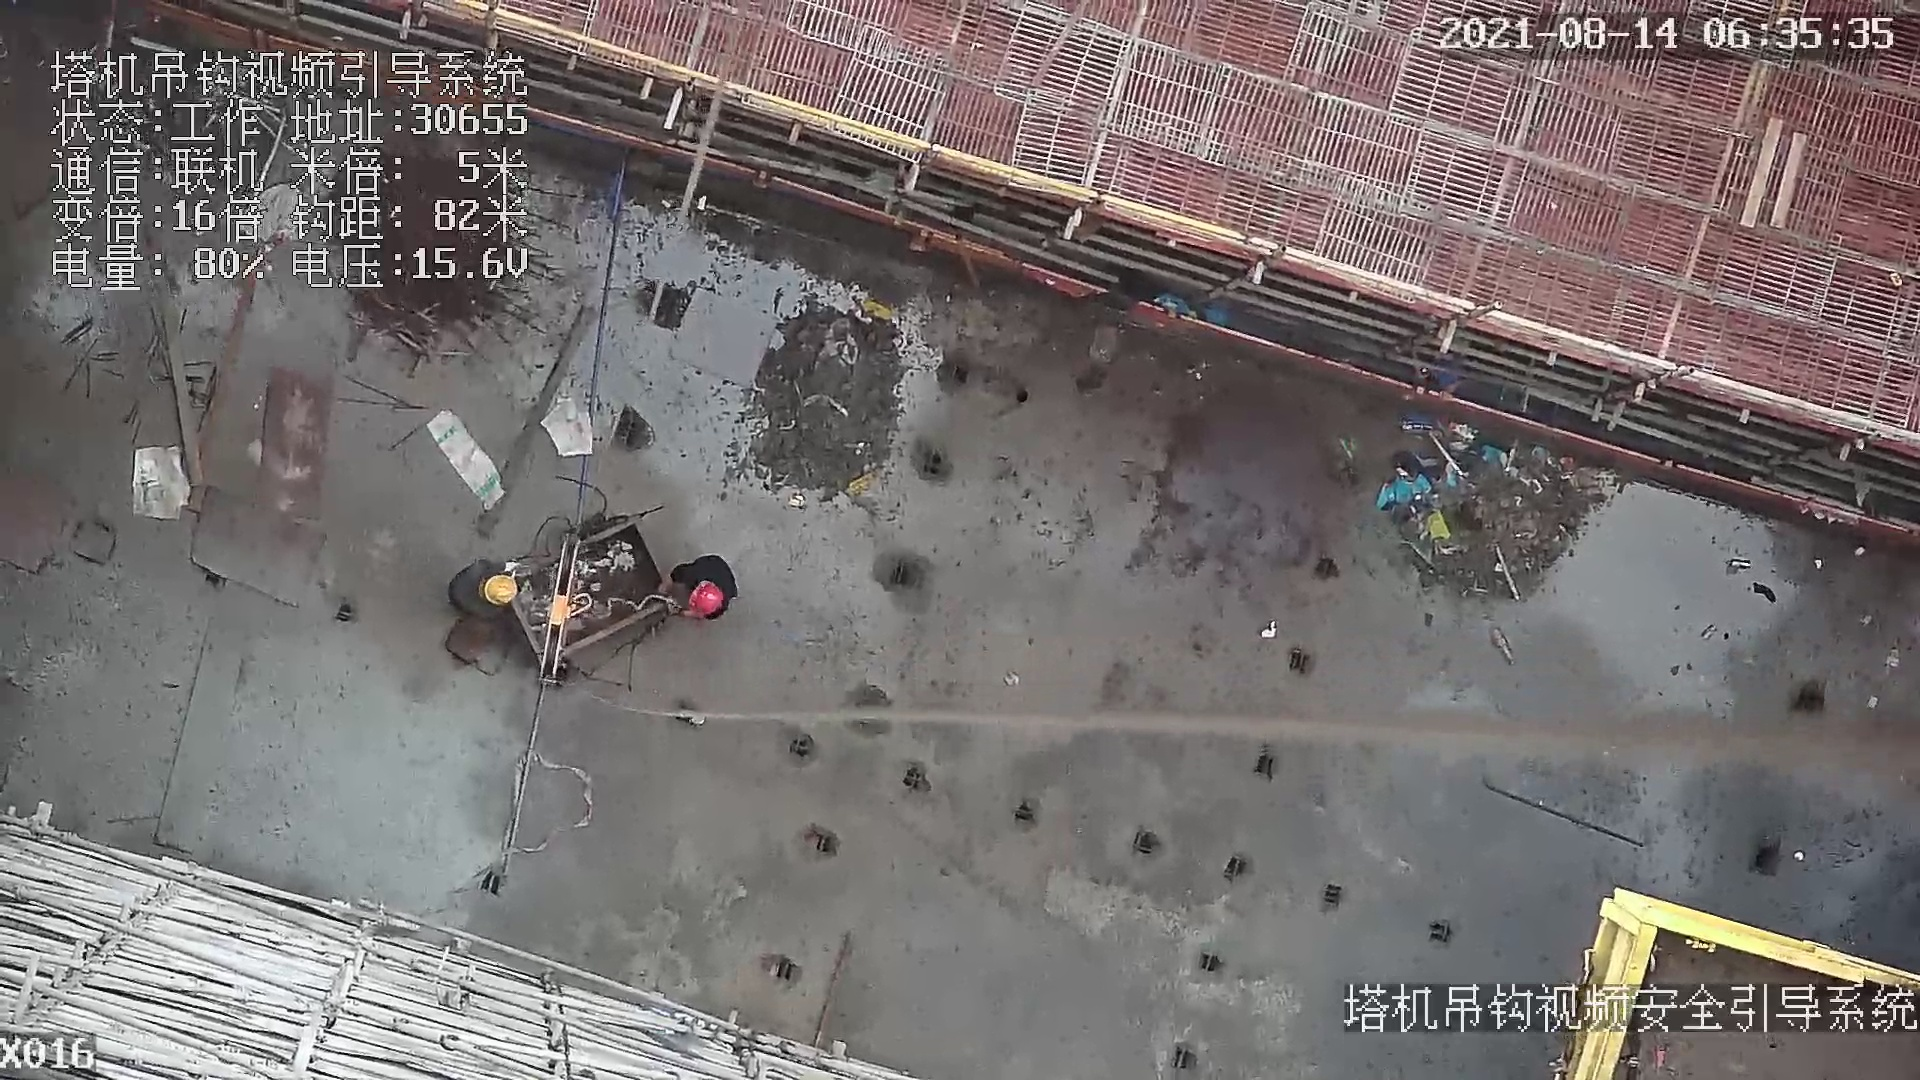helmet: (683, 577, 724, 623), (477, 576, 522, 609)
hook: (537, 532, 594, 692)
hopper: (504, 514, 669, 690)
person: (654, 555, 742, 630), (440, 550, 523, 621)
